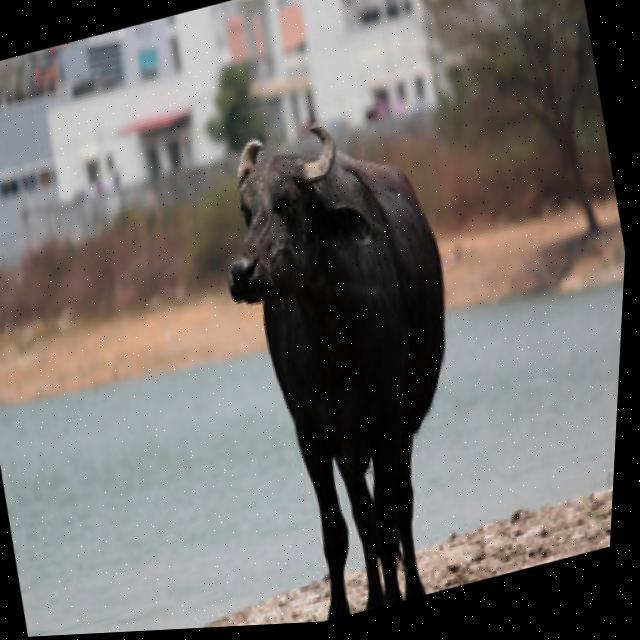Buffalo: (176, 84, 518, 629)
